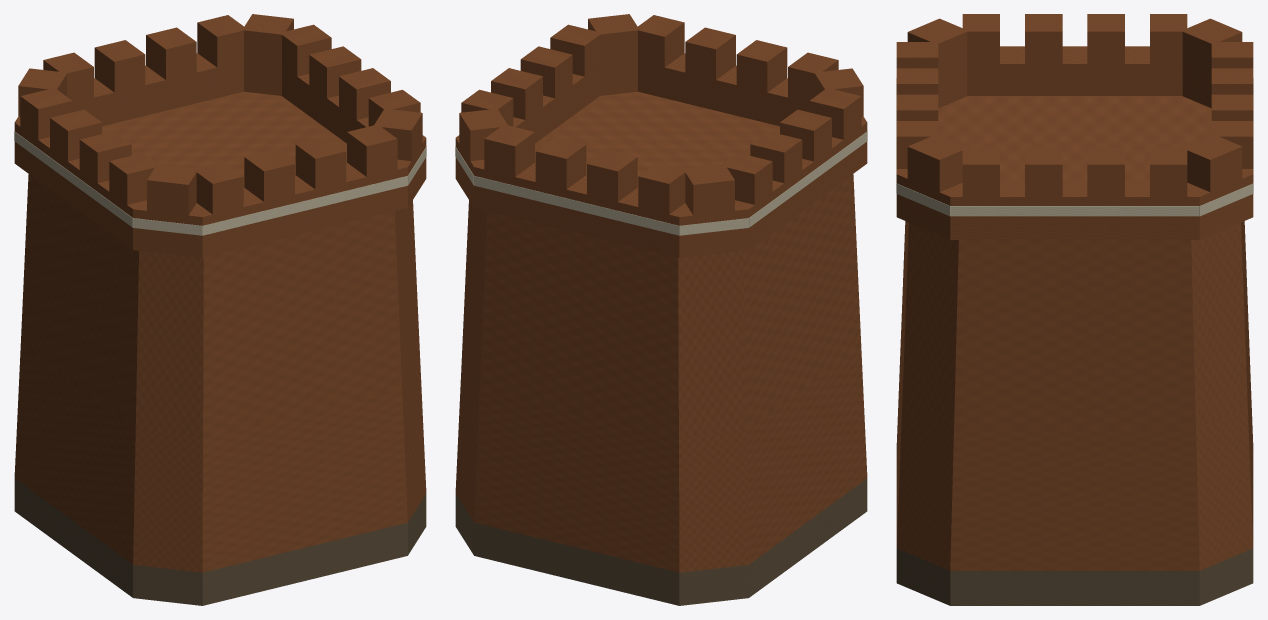
The model's file is Berber_Bastion_Age2_default.fbx.
3 views of the same model, side by side, from view 1: azimuth 30°, elevation 25°; view 2: azimuth 150°, elevation 25°; view 3: azimuth 270°, elevation 25° (orthographic). The views are drawn at different scales.
Visible parts, largest first — view 1: default_battered_upper, default_battered_lower, default_continuous_walk_floor, default_stone_foot, default_guard_4_0, default_guard_0_0, default_guard_6_0, default_guard_2_0, default_merlon_7_0_0, default_merlon_0_0_2, default_merlon_4_0_2, default_merlon_0_0_1 (+21 smaller); view 2: default_battered_upper, default_battered_lower, default_continuous_walk_floor, default_stone_foot, default_guard_0_0, default_guard_4_0, default_guard_6_0, default_guard_2_0, default_merlon_5_0_0, default_merlon_0_0_1, default_merlon_4_0_1, default_merlon_4_0_2 (+21 smaller); view 3: default_battered_upper, default_battered_lower, default_continuous_walk_floor, default_stone_foot, default_guard_6_0, default_guard_2_0, default_owner_band_2_0, default_merlon_1_0_0, default_merlon_3_0_0, default_merlon_7_0_0, default_merlon_2_0_1, default_merlon_2_0_2 (+21 smaller).
Part boxes in pixels (x1,y1,x2,y2): default_battered_upper: (20, 174, 420, 436); default_battered_lower: (14, 345, 426, 572); default_continuous_walk_floor: (14, 91, 426, 257); default_stone_foot: (14, 478, 426, 605); default_guard_4_0: (72, 53, 243, 126); default_guard_0_0: (192, 160, 407, 247); default_guard_6_0: (14, 121, 146, 239); default_guard_2_0: (282, 65, 425, 143); default_merlon_7_0_0: (147, 164, 196, 215); default_merlon_0_0_2: (295, 137, 346, 189); default_merlon_4_0_2: (94, 40, 145, 92); default_merlon_0_0_1: (244, 149, 294, 201); default_battered_upper: (461, 174, 861, 436); default_battered_lower: (455, 345, 867, 572); default_continuous_walk_floor: (455, 91, 867, 257); default_stone_foot: (455, 478, 867, 605); default_guard_0_0: (638, 53, 809, 126); default_guard_4_0: (474, 160, 689, 247); default_guard_6_0: (735, 121, 867, 239); default_guard_2_0: (456, 65, 599, 143); default_merlon_5_0_0: (684, 164, 734, 215); default_merlon_0_0_1: (736, 40, 787, 92); default_merlon_4_0_1: (535, 137, 586, 189); default_merlon_4_0_2: (587, 149, 637, 201); default_battered_upper: (902, 221, 1247, 428); default_battered_lower: (896, 313, 1253, 570); default_continuous_walk_floor: (896, 96, 1253, 239); default_stone_foot: (896, 548, 1253, 605); default_guard_6_0: (967, 46, 1182, 95); default_guard_2_0: (950, 179, 1199, 229); default_owner_band_2_0: (950, 206, 1199, 216); default_merlon_1_0_0: (907, 135, 968, 192); default_merlon_3_0_0: (1183, 134, 1242, 192); default_merlon_7_0_0: (907, 18, 967, 75); default_merlon_2_0_1: (1025, 147, 1062, 196); default_merlon_2_0_2: (1087, 147, 1124, 196).
Size of the model in its own units: 601 by 820 by 601.
3 materials, 3 textured.
